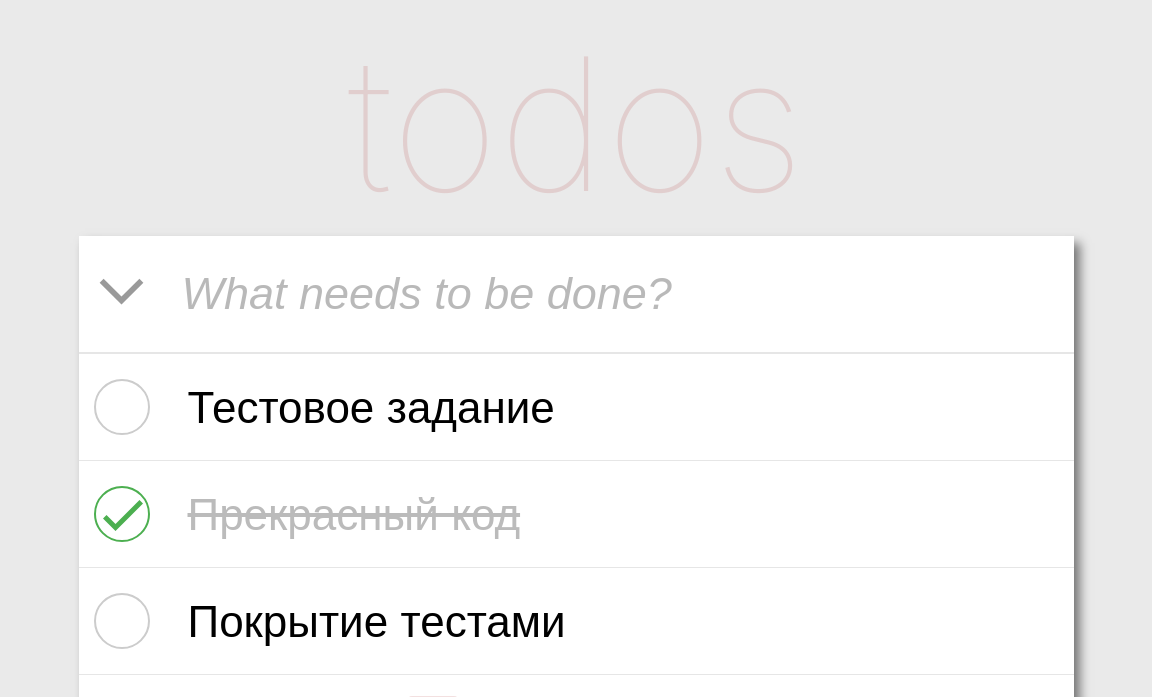
Test: ToDoTest: › добавление новой задачи
The width and height of the screenshot is (1152, 697).
Type "Новая задача" into the field with test id "todoInput" at (618, 294), box [182, 268, 1054, 320]
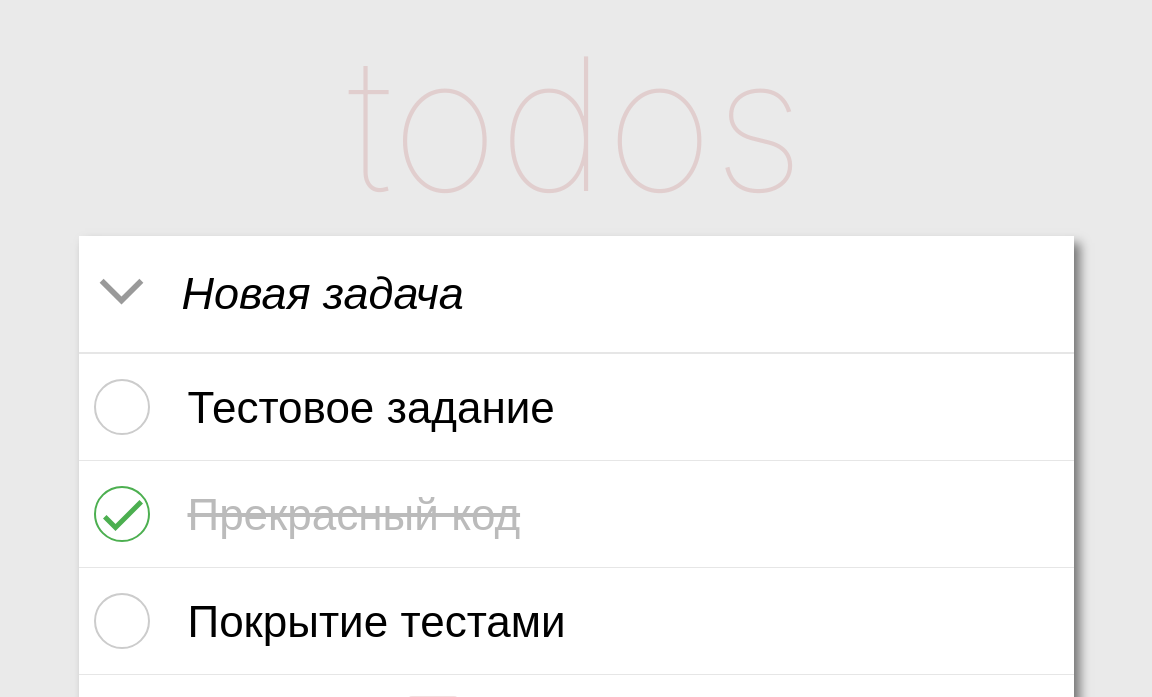
Submit the form with test id "form", box [78, 236, 1074, 354]
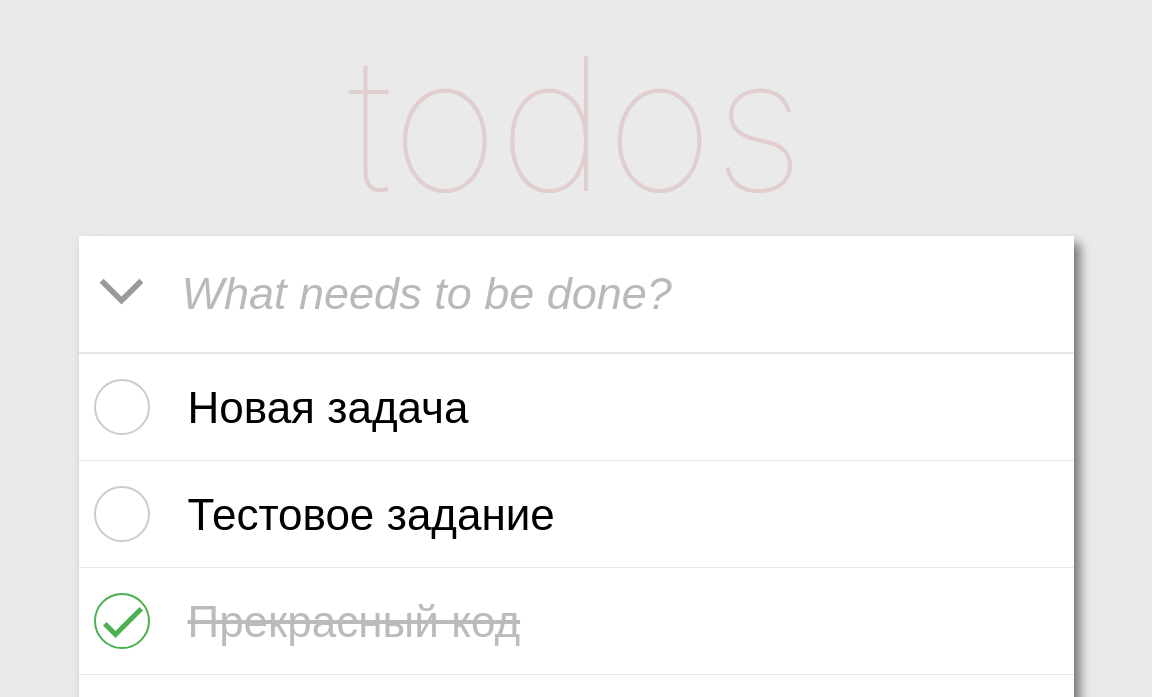
expect the text "Новая задача" is shown: met, box [188, 380, 468, 434]
